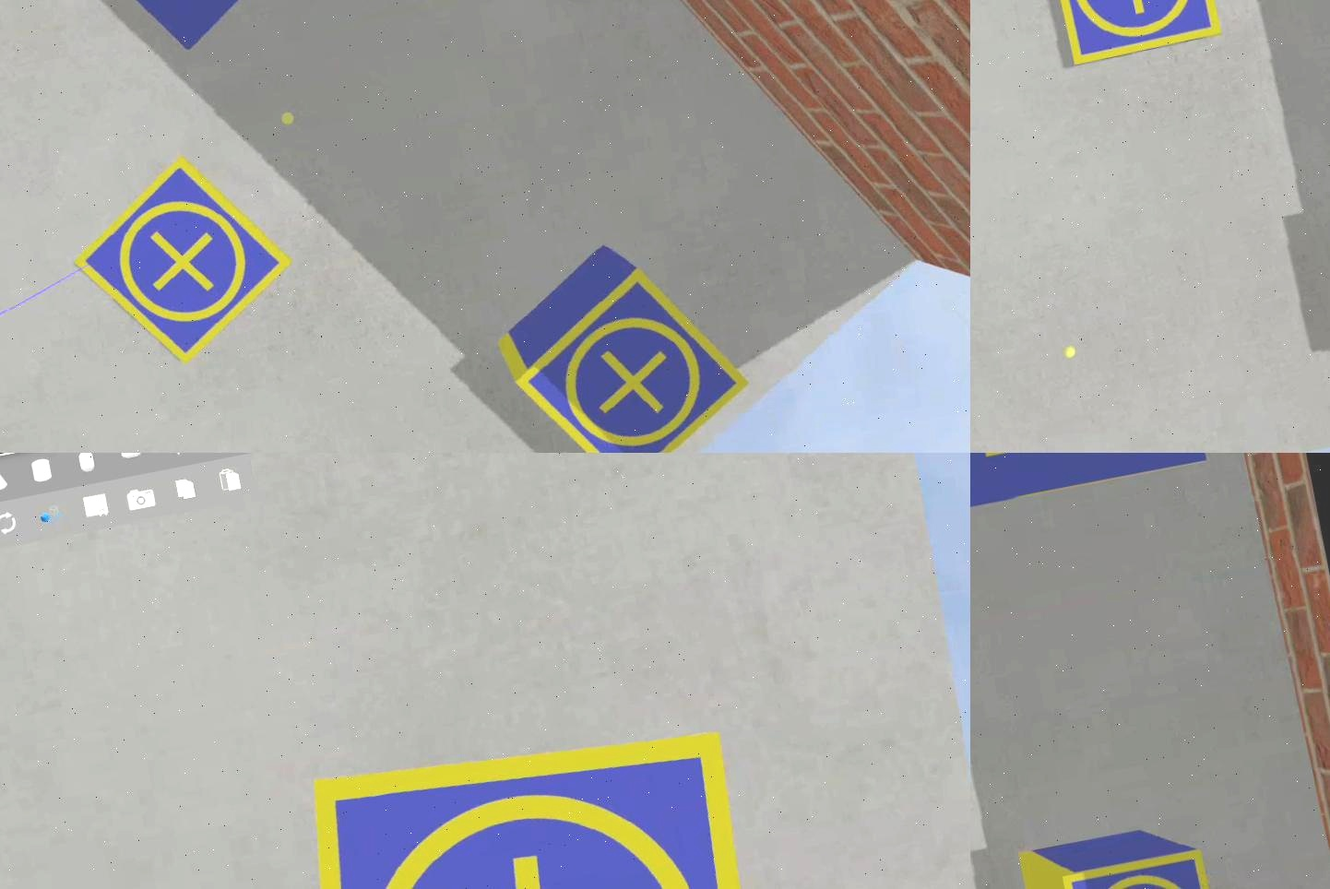large_base: (25, 1, 447, 66), (970, 454, 1211, 513)
small_base: (261, 692, 809, 889), (63, 143, 308, 384), (505, 256, 762, 454), (1039, 1, 1223, 68), (1059, 846, 1220, 889)
